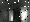person: (21, 8, 28, 22), (10, 8, 14, 21)
